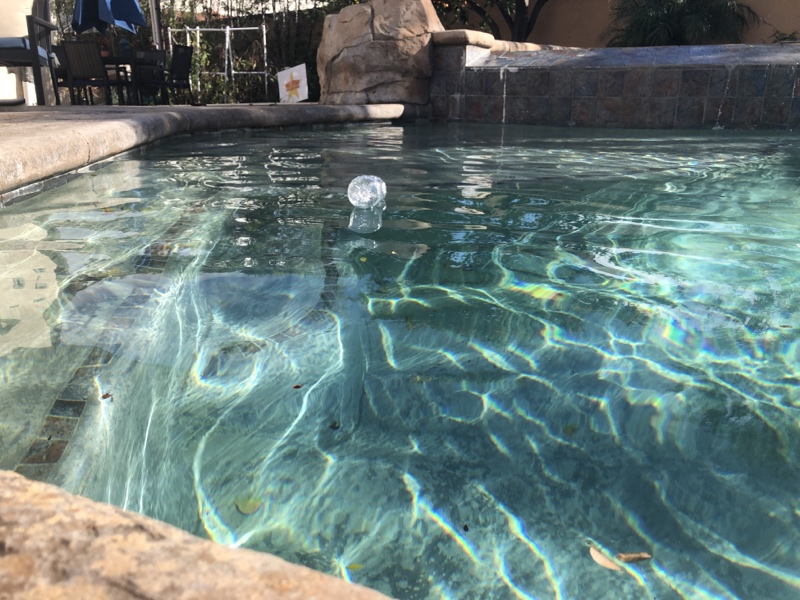Plastic Bottle: (346, 171, 390, 213)
